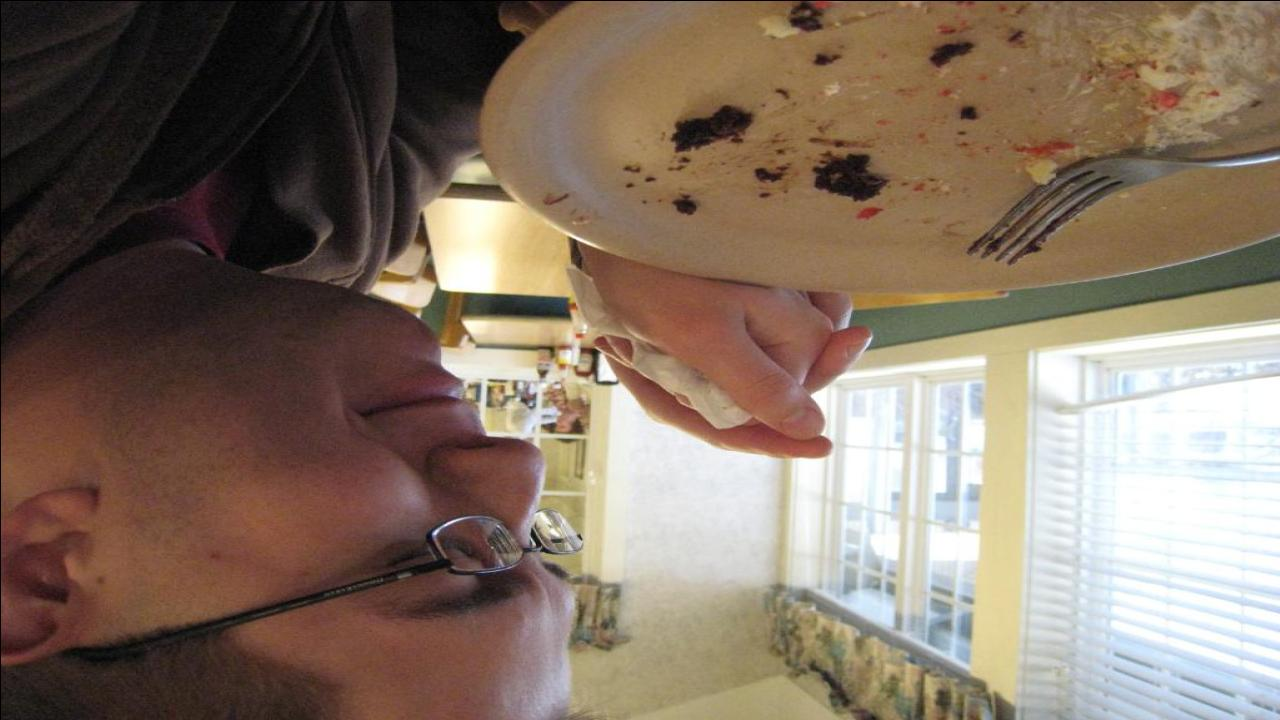fork: (958, 133, 1280, 267)
